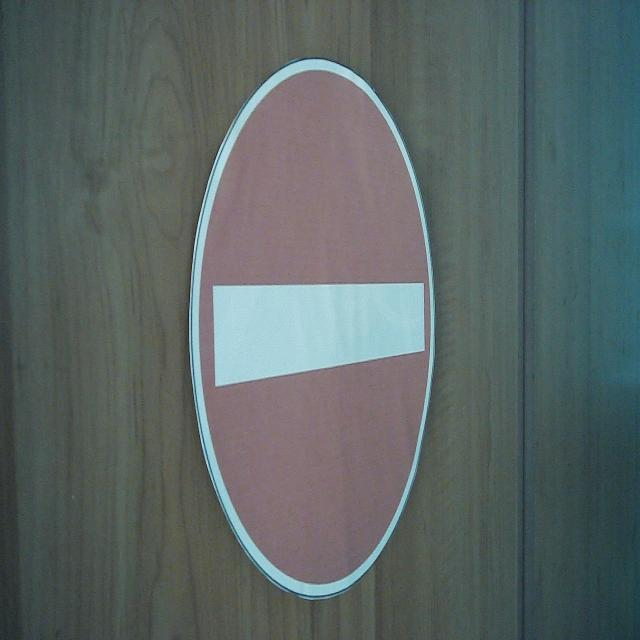no_entry: (187, 53, 437, 603)
